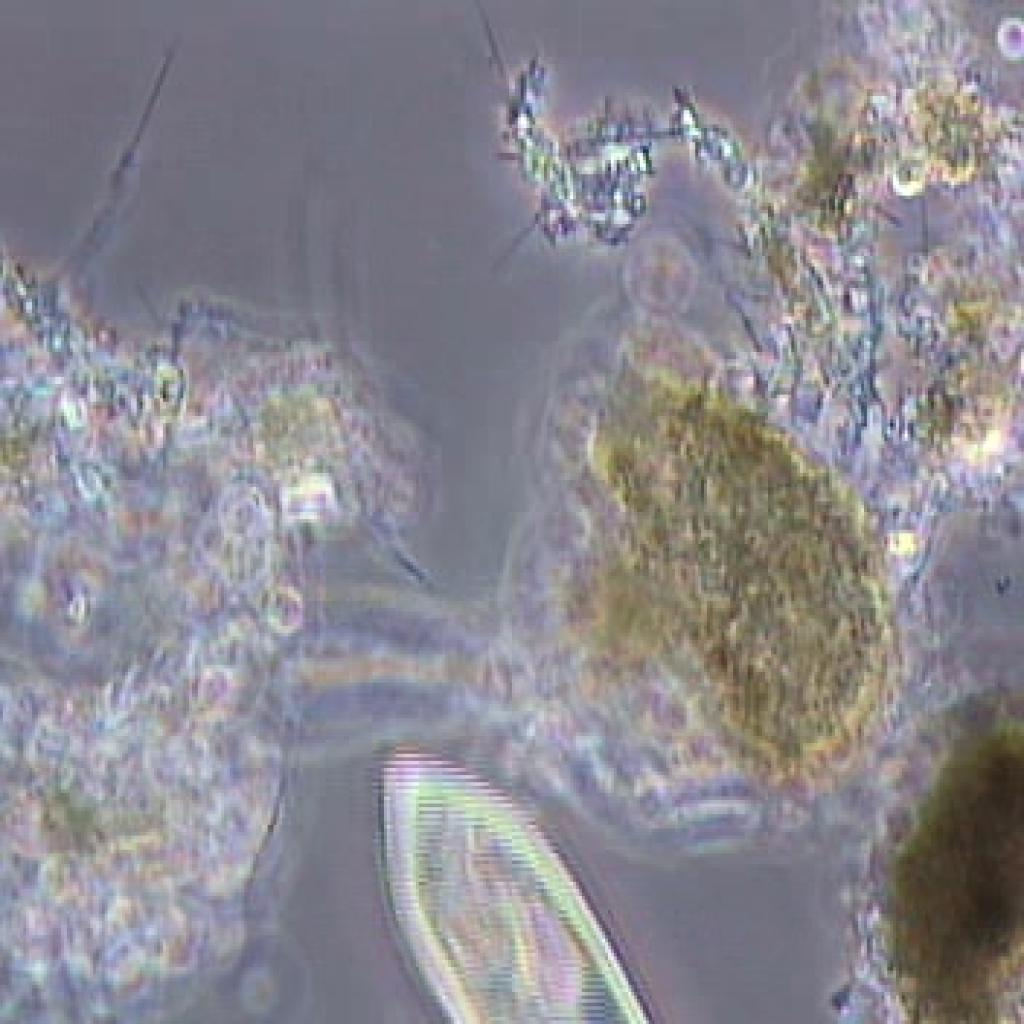Paramecium: (362, 725, 668, 1024)
